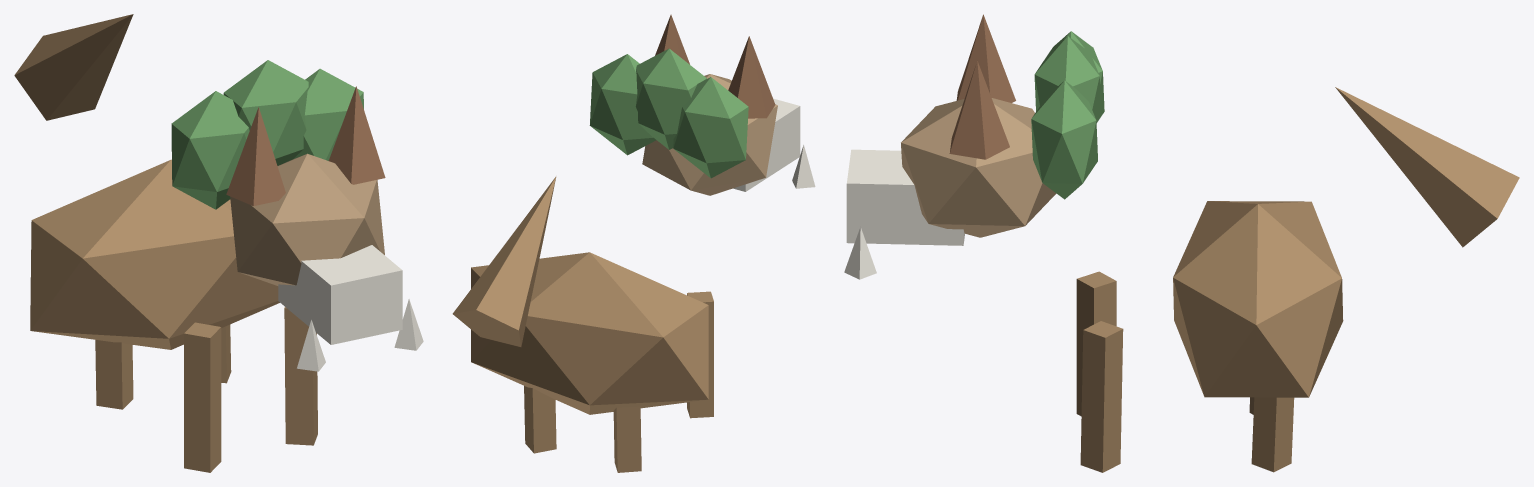
The model's file is npcpose_wolf_idle_06.glb.
3 renders of one model, left to right at view 1: azimuth 30°, elevation 25°; view 2: azimuth 150°, elevation 25°; view 3: azimuth 270°, elevation 25°, orthographic. The views are drawn at different scales.
Visible parts, largest first — view 1: npcpose; view 2: npcpose; view 3: npcpose.
Boxes of the visible parts, x1,y1,x2,y2 form: npcpose: (14, 14, 423, 472); npcpose: (452, 14, 815, 472); npcpose: (844, 14, 1519, 472).
Size of the model in its own units: 0.8872 by 1.22 by 1.85.
